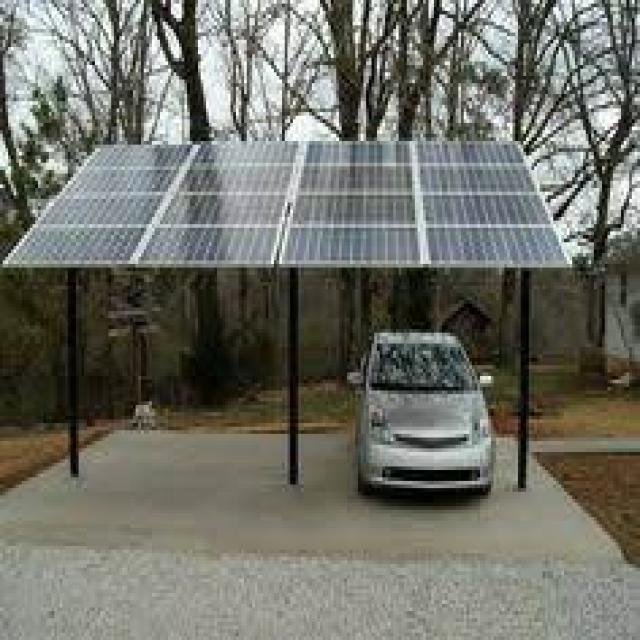libre: (70, 266, 284, 495)
ocupado: (331, 305, 505, 506)
